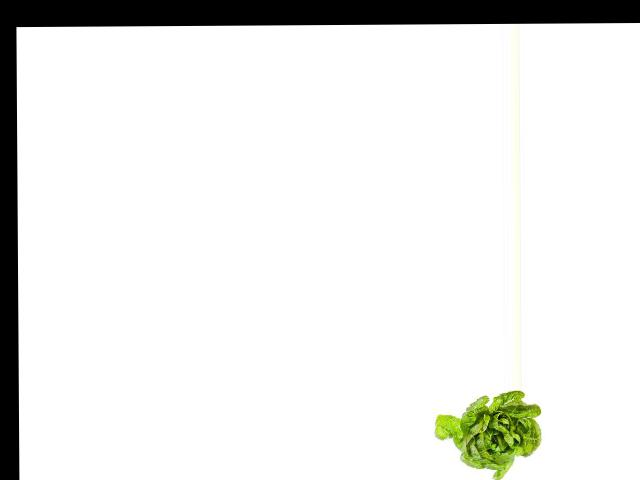lettuce: (430, 393, 543, 480)
